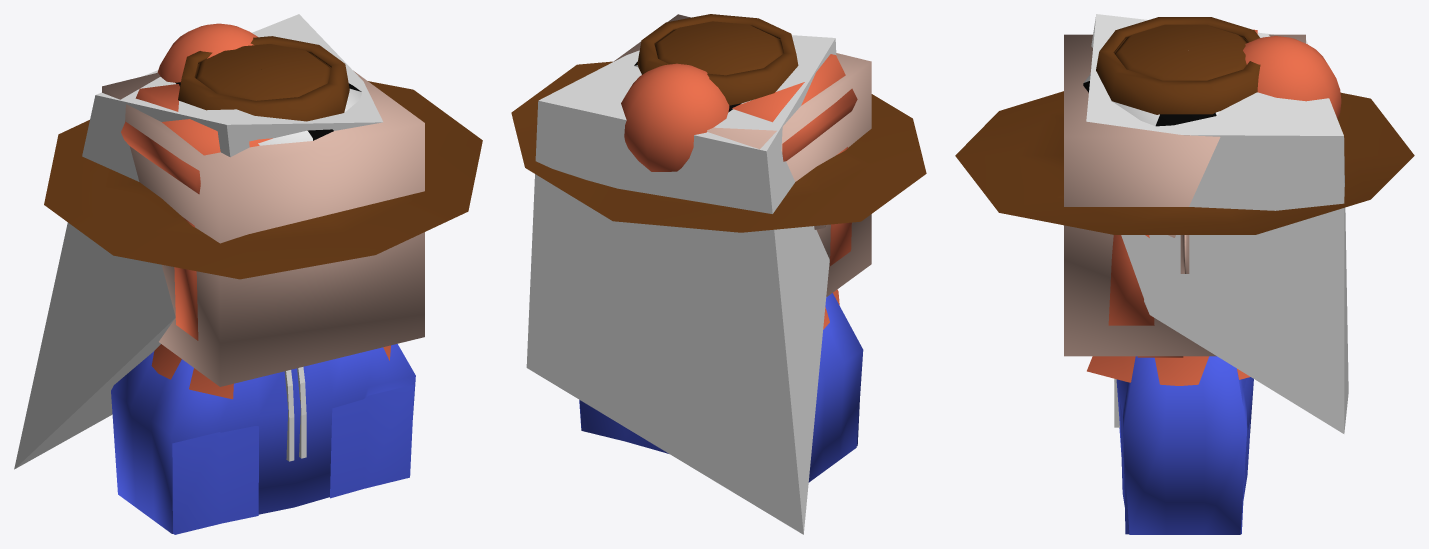
File: avatar.gltf
The picture shows the model from 3 angles, left to right: view 1: azimuth 30°, elevation 25°; view 2: azimuth 150°, elevation 25°; view 3: azimuth 270°, elevation 25°; orthographic projection. The views are drawn at different scales.
Visible parts, largest first — view 1: Face, Hat, Cube, Hoddy, Jacket1, Hair Big, Hair girl puff, Girl_Hair2, Girl Hair Long, Hoddy lay, Cap; view 2: Cube, Hat, Face, Hair girl puff, Hoddy, Hair Big, Jacket1, Girl_Hair2; view 3: Cube, Hat, Face, Hoddy, Hair girl puff, Girl_Hair2, Girl Hair Long, Cap, Jacket1.
Part boxes in pixels (x1,y1,x2,y2): Face: [102, 70, 424, 386]; Hat: [44, 36, 482, 279]; Cube: [14, 14, 382, 469]; Hoddy: [111, 344, 415, 533]; Jacket1: [172, 384, 414, 534]; Hair Big: [121, 84, 272, 194]; Hair girl puff: [157, 23, 257, 82]; Girl_Hair2: [174, 217, 198, 340]; Girl Hair Long: [151, 344, 390, 399]; Hoddy lay: [284, 367, 306, 461]; Cap: [175, 82, 361, 145]; Cube: [526, 35, 836, 534]; Hat: [511, 14, 926, 232]; Face: [613, 14, 871, 296]; Hair girl puff: [621, 63, 729, 171]; Hoddy: [579, 293, 863, 482]; Hair Big: [732, 54, 857, 161]; Jacket1: [579, 400, 859, 453]; Girl_Hair2: [830, 147, 851, 266]; Cube: [1086, 14, 1348, 433]; Hat: [955, 17, 1414, 234]; Face: [1064, 34, 1305, 356]; Hoddy: [1116, 356, 1253, 534]; Hair girl puff: [1243, 36, 1341, 119]; Girl_Hair2: [1108, 235, 1183, 357]; Girl Hair Long: [1087, 356, 1250, 385]; Cap: [1083, 74, 1220, 126]; Jacket1: [1120, 370, 1250, 534].
Size of the model in its own units: 0.3612 by 0.3967 by 0.3798.
